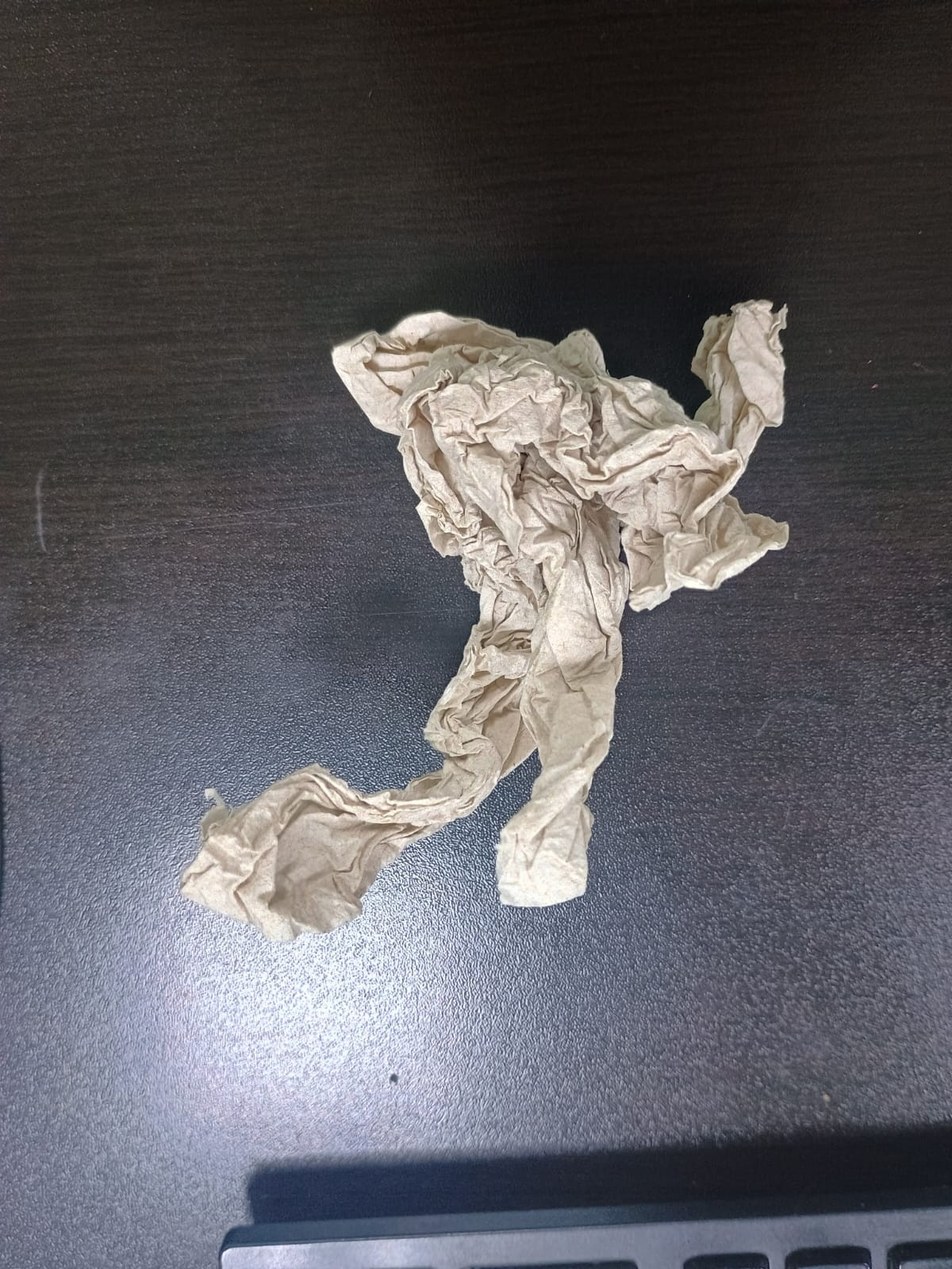Ordinario: (182, 296, 844, 942)
